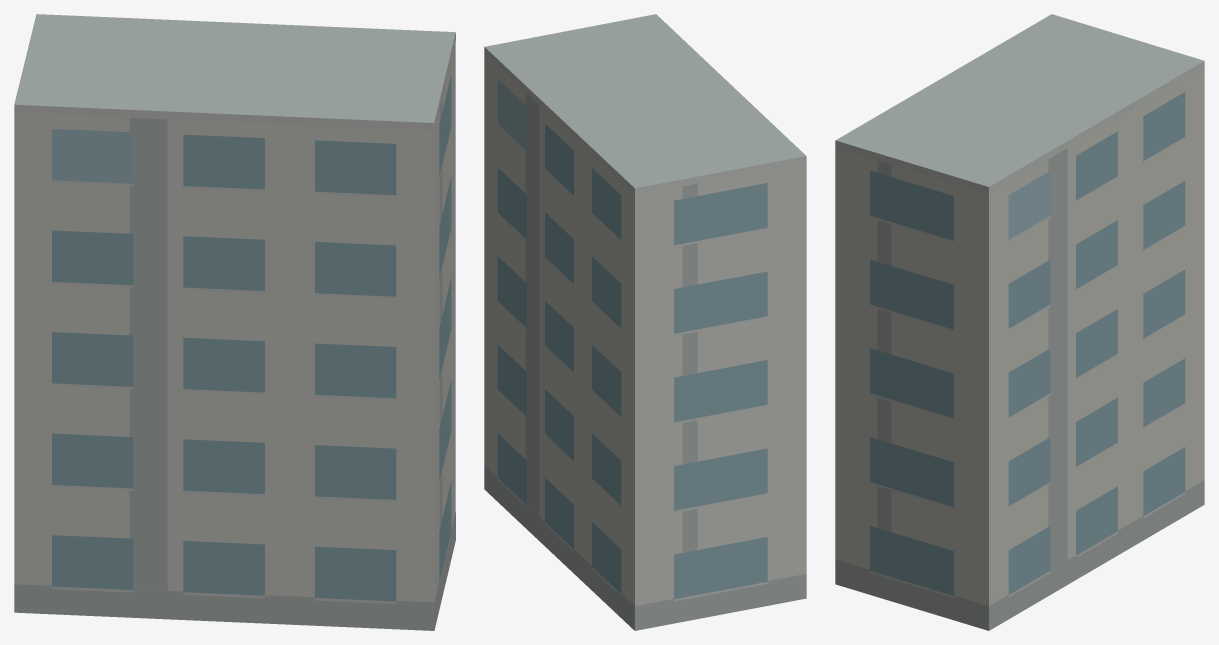
File: survey-upis-32552930.glb
3 renders of one model, left to right at view 1: azimuth 30°, elevation 25°; view 2: azimuth 150°, elevation 25°; view 3: azimuth 270°, elevation 25°, orthographic. The views are drawn at different scales.
Parts seen in each view (by area): view 1: survey-upis-32552930.tmp; view 2: survey-upis-32552930.tmp; view 3: survey-upis-32552930.tmp.
Part boxes in pixels (box(x1,y1,x2,y2)): survey-upis-32552930.tmp: box(14, 14, 455, 630); survey-upis-32552930.tmp: box(484, 14, 806, 630); survey-upis-32552930.tmp: box(835, 14, 1204, 630).
Bounding box in the file's own units: 12.75 × 15.25 × 11.5.
